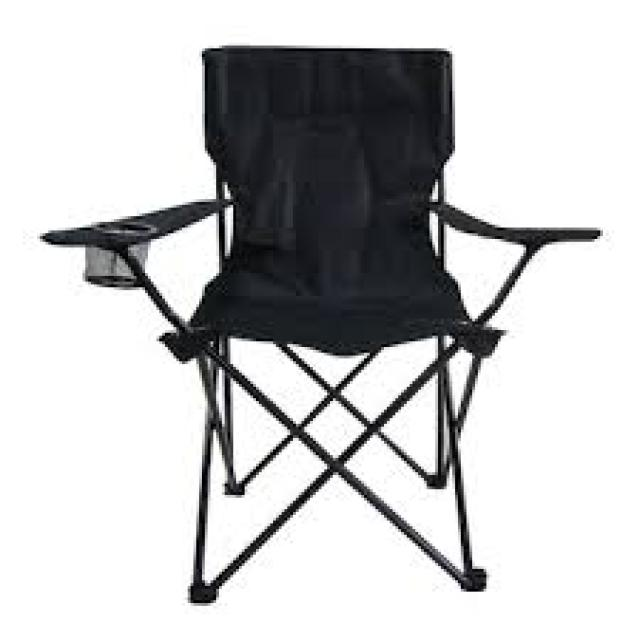chair: (20, 0, 617, 640)
